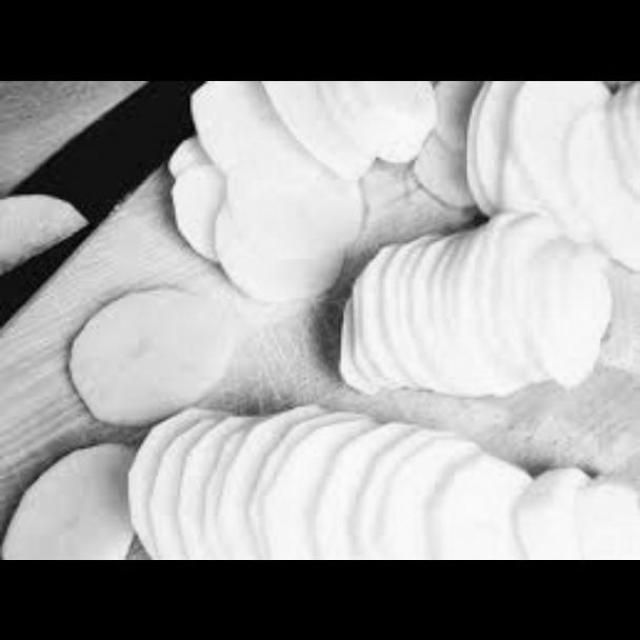potato: (121, 393, 639, 559), (308, 208, 639, 412), (171, 80, 412, 296), (409, 79, 639, 245), (60, 283, 237, 408), (5, 442, 151, 558), (0, 179, 101, 269)
